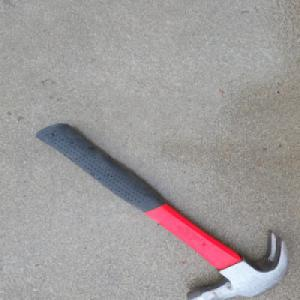Hammer: (34, 122, 286, 288)
